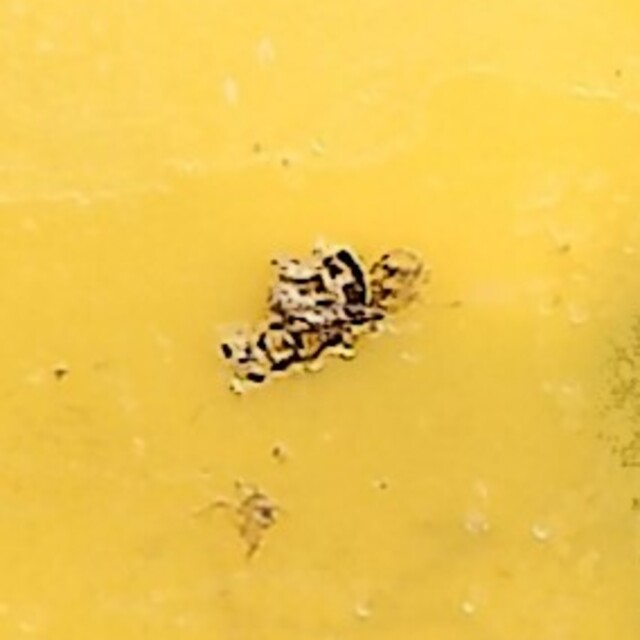Nematocera: (225, 241, 415, 399)
